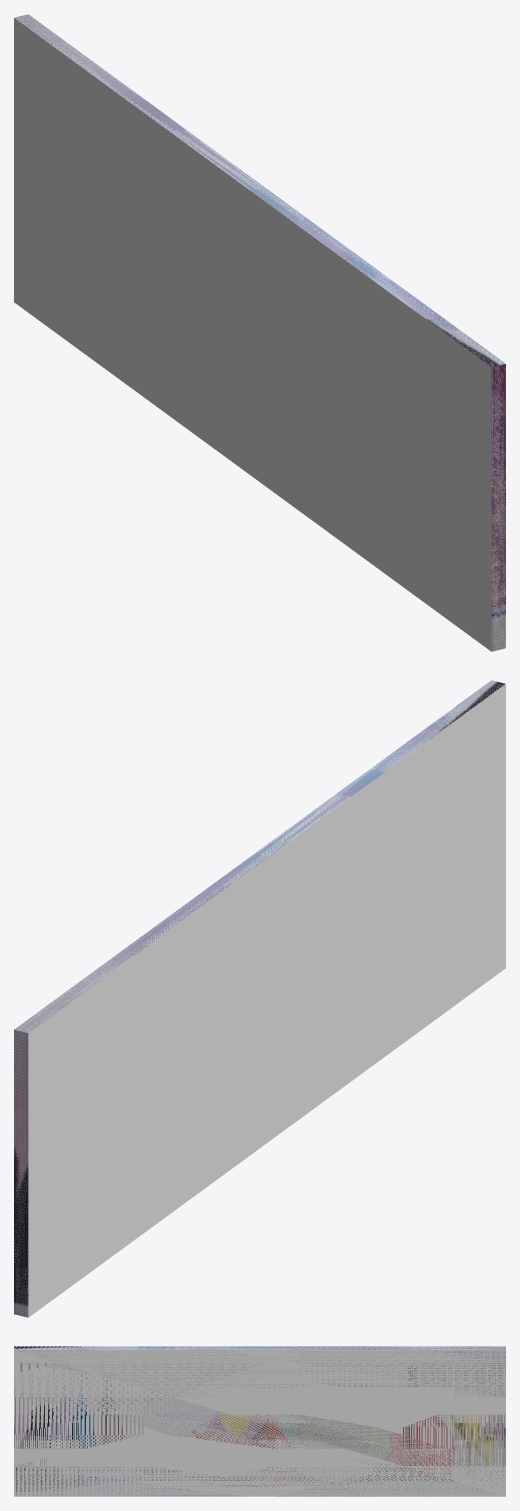
File: picture_bodegon.dae
3 renders of one model, top to bottom at view 1: azimuth 30°, elevation 25°; view 2: azimuth 150°, elevation 25°; view 3: azimuth 270°, elevation 25°, orthographic. The views are drawn at different scales.
Parts seen in each view (by area): view 1: SketchUp (×2); view 2: SketchUp (×2); view 3: SketchUp.
Boxes of the visible parts, x1,y1,x2,y2 form: SketchUp (×2): (14,14,505,651); SketchUp (×2): (14,680,505,1317); SketchUp: (14,1346,505,1496).
Bounding box in the file's own units: 0.0213 × 1.22 × 0.3996.
Materials: 4 (2 with a texture image).
